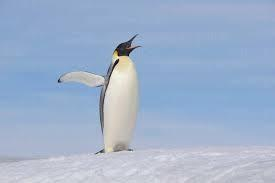emporer: (53, 32, 155, 168)
